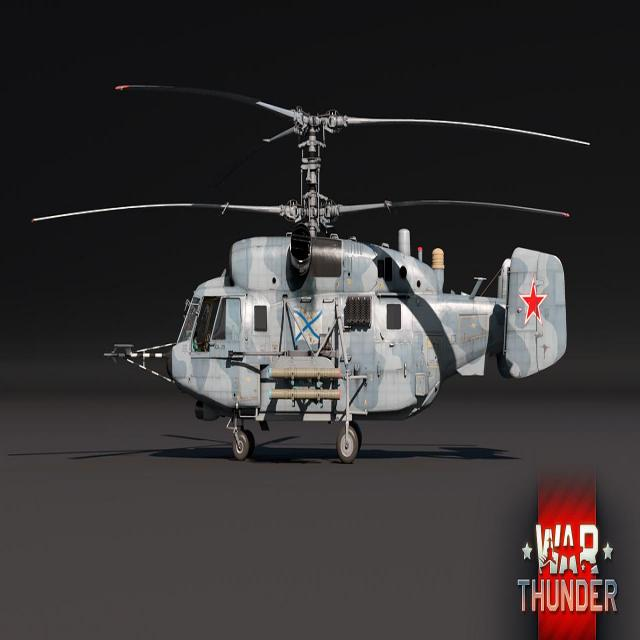MIL_HELO: (14, 50, 591, 466)
